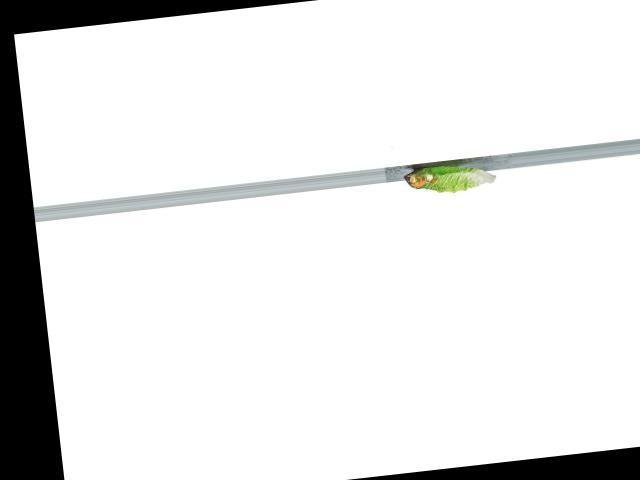lettuce: (399, 155, 498, 201)
